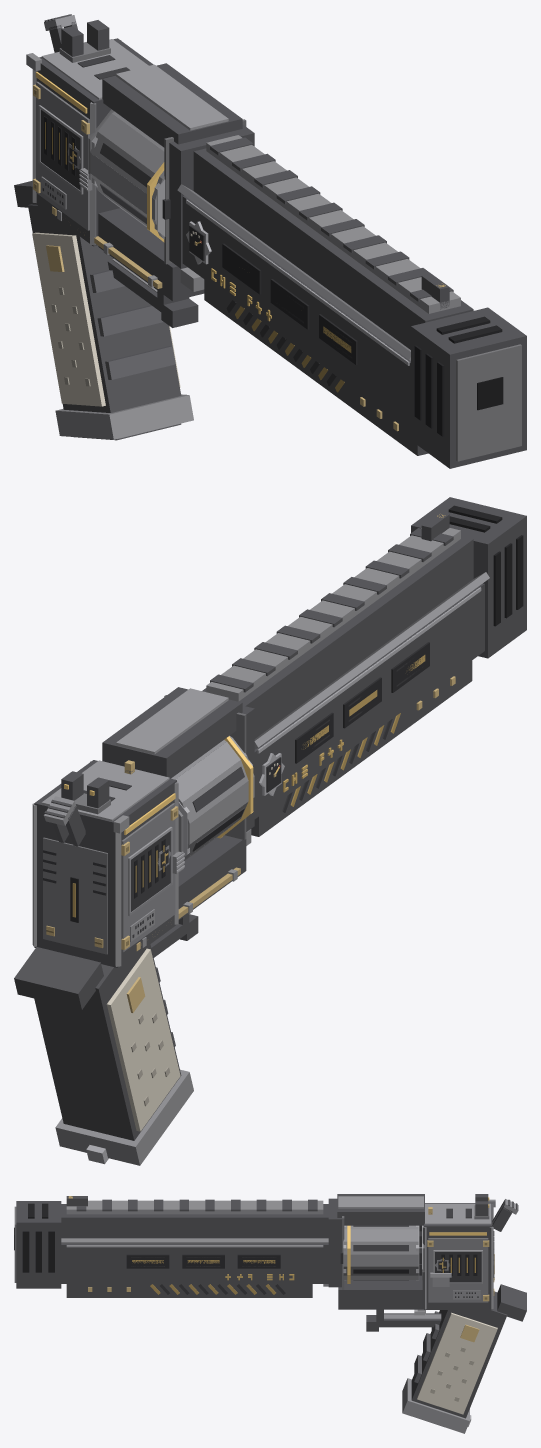
Rendered from revolver.glb.
The picture shows the model from 3 angles, top to bottom: view 1: azimuth 30°, elevation 25°; view 2: azimuth 150°, elevation 25°; view 3: azimuth 270°, elevation 25°; orthographic projection. The views are drawn at different scales.
Parts seen in each view (by area): view 1: black (×14), steel (×4), bone, steel*0.7, edge*0.8 (×2), black*1.4 (×3), black*0.3 (×3), steel*0.8, steel*0.9, black*0.2 (×3), black*0.55, edge (+6 smaller); view 2: black (×9), steel (×4), bone, steel*0.7, edge*0.8 (×2), steel*0.8, steel*0.9, black*0.3 (×3), black*0.55, edge, steel*0.85, edge*0.7; view 3: black (×11), steel (×5), bone, edge*0.8 (×2), steel*0.8, black*0.3 (×3), steel*0.9, steel*0.85 (×3), edge*0.7 (×3), black*0.2 (×3), black*0.55, edge (+1 smaller).
Boxes of the visible parts, x1=… form: black (×14): x1=28, y1=20, x2=526, y2=468; steel (×4): x1=55, y1=113, x2=460, y2=439; bone: x1=32, y1=232, x2=105, y2=406; steel*0.7: x1=456, y1=344, x2=521, y2=461; edge*0.8 (×2): x1=41, y1=39, x2=228, y2=130; black*1.4 (×3): x1=90, y1=270, x2=175, y2=379; black*0.3 (×3): x1=222, y1=243, x2=357, y2=364; steel*0.8: x1=36, y1=81, x2=89, y2=230; steel*0.9: x1=177, y1=184, x2=410, y2=360; black*0.2 (×3): x1=414, y1=345, x2=444, y2=436; black*0.55: x1=40, y1=109, x2=80, y2=190; edge: x1=186, y1=199, x2=409, y2=365; black (×9): x1=14, y1=497, x2=526, y2=1140; steel (×4): x1=55, y1=528, x2=460, y2=1165; bone: x1=107, y1=948, x2=180, y2=1131; steel*0.7: x1=43, y1=837, x2=107, y2=954; edge*0.8 (×2): x1=41, y1=688, x2=228, y2=821; steel*0.8: x1=121, y1=803, x2=175, y2=952; steel*0.9: x1=254, y1=572, x2=489, y2=749; black*0.3 (×3): x1=295, y1=642, x2=429, y2=763; black*0.55: x1=131, y1=831, x2=170, y2=911; edge: x1=257, y1=587, x2=481, y2=753; steel*0.85: x1=181, y1=755, x2=254, y2=823; edge*0.7: x1=115, y1=832, x2=121, y2=966; black (×11): x1=16, y1=1194, x2=526, y2=1418; steel (×5): x1=66, y1=1200, x2=469, y2=1433; bone: x1=417, y1=1312, x2=497, y2=1414; edge*0.8 (×2): x1=338, y1=1196, x2=491, y2=1224; steel*0.8: x1=428, y1=1238, x2=488, y2=1302; black*0.3 (×3): x1=126, y1=1254, x2=280, y2=1268; steel*0.9: x1=61, y1=1238, x2=328, y2=1243; steel*0.85 (×3): x1=343, y1=1225, x2=418, y2=1275; edge*0.7 (×3): x1=384, y1=1227, x2=493, y2=1319; black*0.2 (×3): x1=22, y1=1231, x2=54, y2=1272; black*0.55: x1=435, y1=1252, x2=481, y2=1282; edge: x1=66, y1=1245, x2=323, y2=1247.
Bounding box in the file's own units: 0.0647 × 0.2347 × 0.4795.
